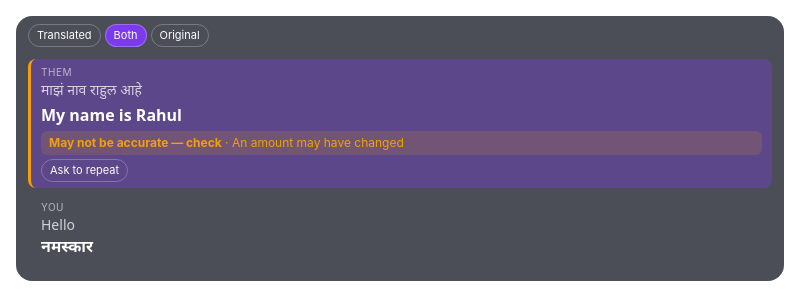
Scenario: CaptionsOverlay › shows DualView lines, highlights the voiced phrase, flags in plain words and asks to repeat
Expected: the text "My name is Rahul" is shown, [41, 104, 182, 126]
Expected: the element showing "May not be accurate — check · An amount may have changed" is shown, [41, 131, 762, 155]
What coordinates should you click on to do the following:
click the button "Ask to repeat"
I would click on:
 (85, 170)
Its box is [41, 159, 128, 182].
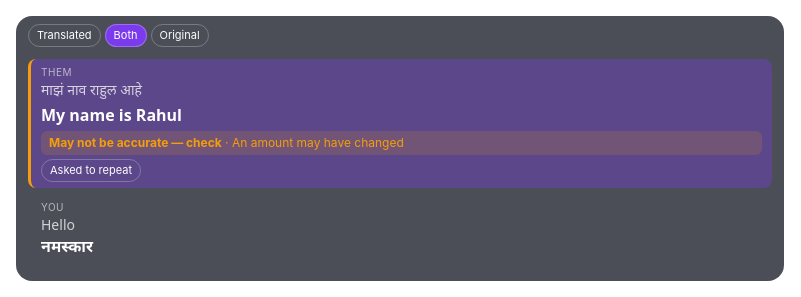
Now the button with aria-label "ask to repeat" reads "Asked to repeat", box [41, 159, 141, 182]
What coordinates should you click on to do the following:
click the radio button labelled "Translated"
I would click on:
 (64, 35)
Its box is [28, 24, 101, 46].
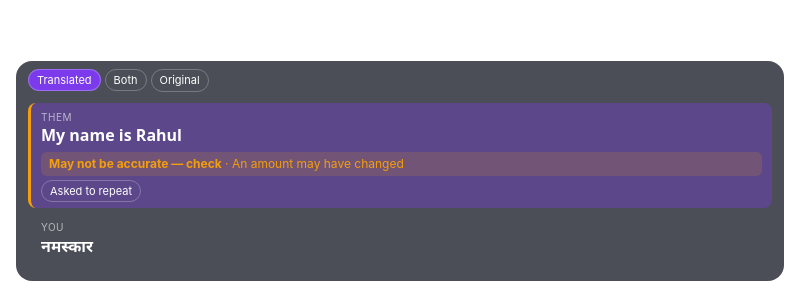
Now the text "माझं नाव राहुल आहे" is gone
